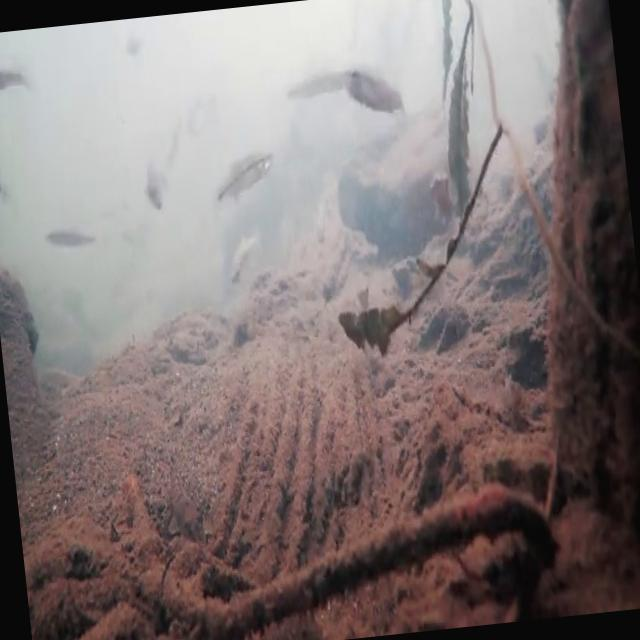Cakil Baligi: (214, 142, 276, 206), (221, 230, 262, 286), (44, 222, 96, 259)
